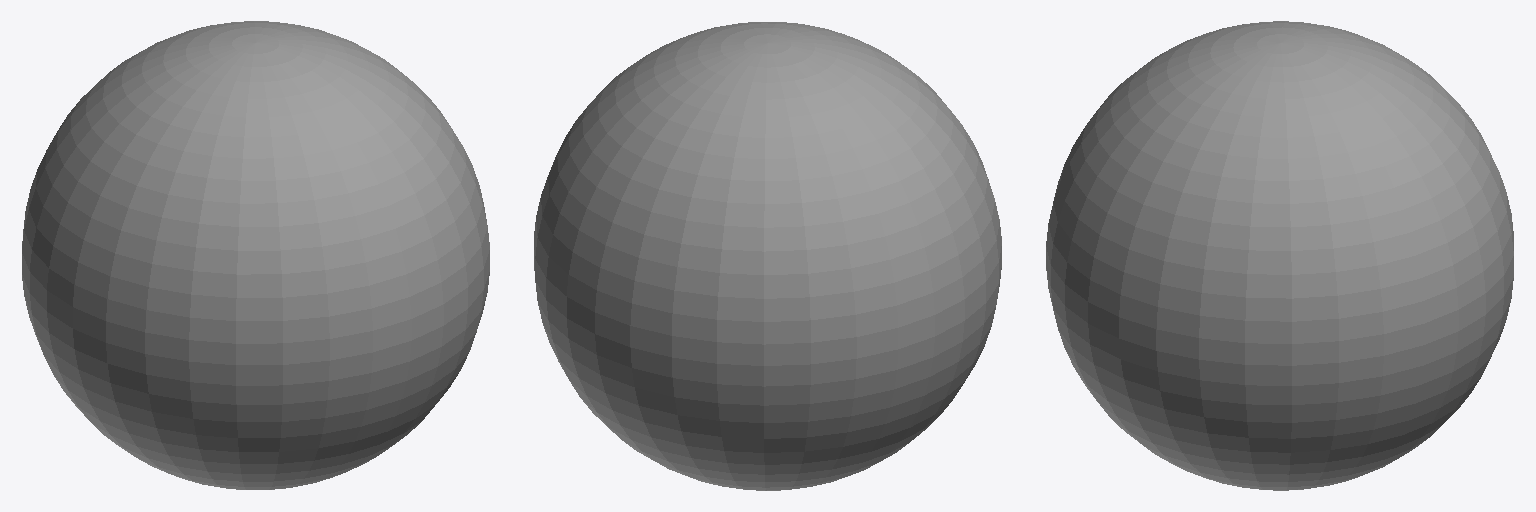
Rendered from artificalHorizont.obj.
3 views of the same model, side by side, from view 1: azimuth 30°, elevation 25°; view 2: azimuth 150°, elevation 25°; view 3: azimuth 270°, elevation 25° (orthographic).
Parts seen in each view (by area): view 1: Grid_Grid.001; view 2: Grid_Grid.001; view 3: Grid_Grid.001.
Part boxes in pixels (left/top/right/bottom): Grid_Grid.001: left=22, top=21, right=489, bottom=489; Grid_Grid.001: left=534, top=22, right=1001, bottom=490; Grid_Grid.001: left=1046, top=21, right=1513, bottom=490.
Bounding box in the file's own units: 1.99 × 2 × 1.99.